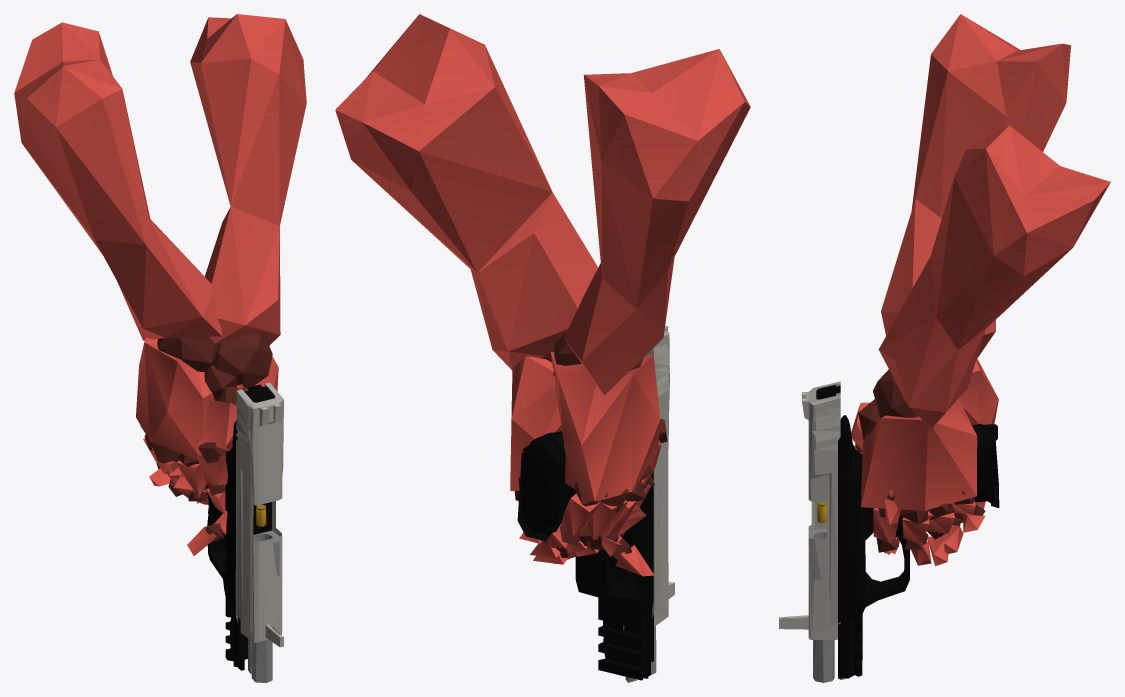
Rendered from M&P9shootLowP_000204.obj.
3 views of the same model, side by side, from view 1: azimuth 30°, elevation 25°; view 2: azimuth 150°, elevation 25°; view 3: azimuth 270°, elevation 25° (orthographic). The views are drawn at different scales.
Visible parts, largest first — view 1: Beta_Surface.001_Beta_Surface.002, slide_平面.002, Beta_Joints.001_Beta_Joints.002, triger_平面.001; view 2: Beta_Surface.001_Beta_Surface.002, triger_平面.001, slide_平面.002, Beta_Joints.001_Beta_Joints.002; view 3: Beta_Surface.001_Beta_Surface.002, triger_平面.001, slide_平面.002, Beta_Joints.001_Beta_Joints.002.
Part boxes in pixels (x1,y1,x2,y2): Beta_Surface.001_Beta_Surface.002: (14, 14, 306, 555); slide_平面.002: (235, 382, 283, 647); Beta_Joints.001_Beta_Joints.002: (139, 333, 272, 542); triger_平面.001: (206, 421, 279, 682); Beta_Surface.001_Beta_Surface.002: (335, 14, 750, 576); triger_平面.001: (522, 431, 656, 682); slide_平面.002: (623, 326, 674, 630); Beta_Joints.001_Beta_Joints.002: (514, 334, 667, 564); Beta_Surface.001_Beta_Surface.002: (851, 14, 1110, 566); triger_平面.001: (809, 415, 997, 682); slide_平面.002: (779, 381, 840, 639); Beta_Joints.001_Beta_Joints.002: (855, 369, 985, 553).
Size of the model in its own units: 42.47 by 80.1 by 40.16.
